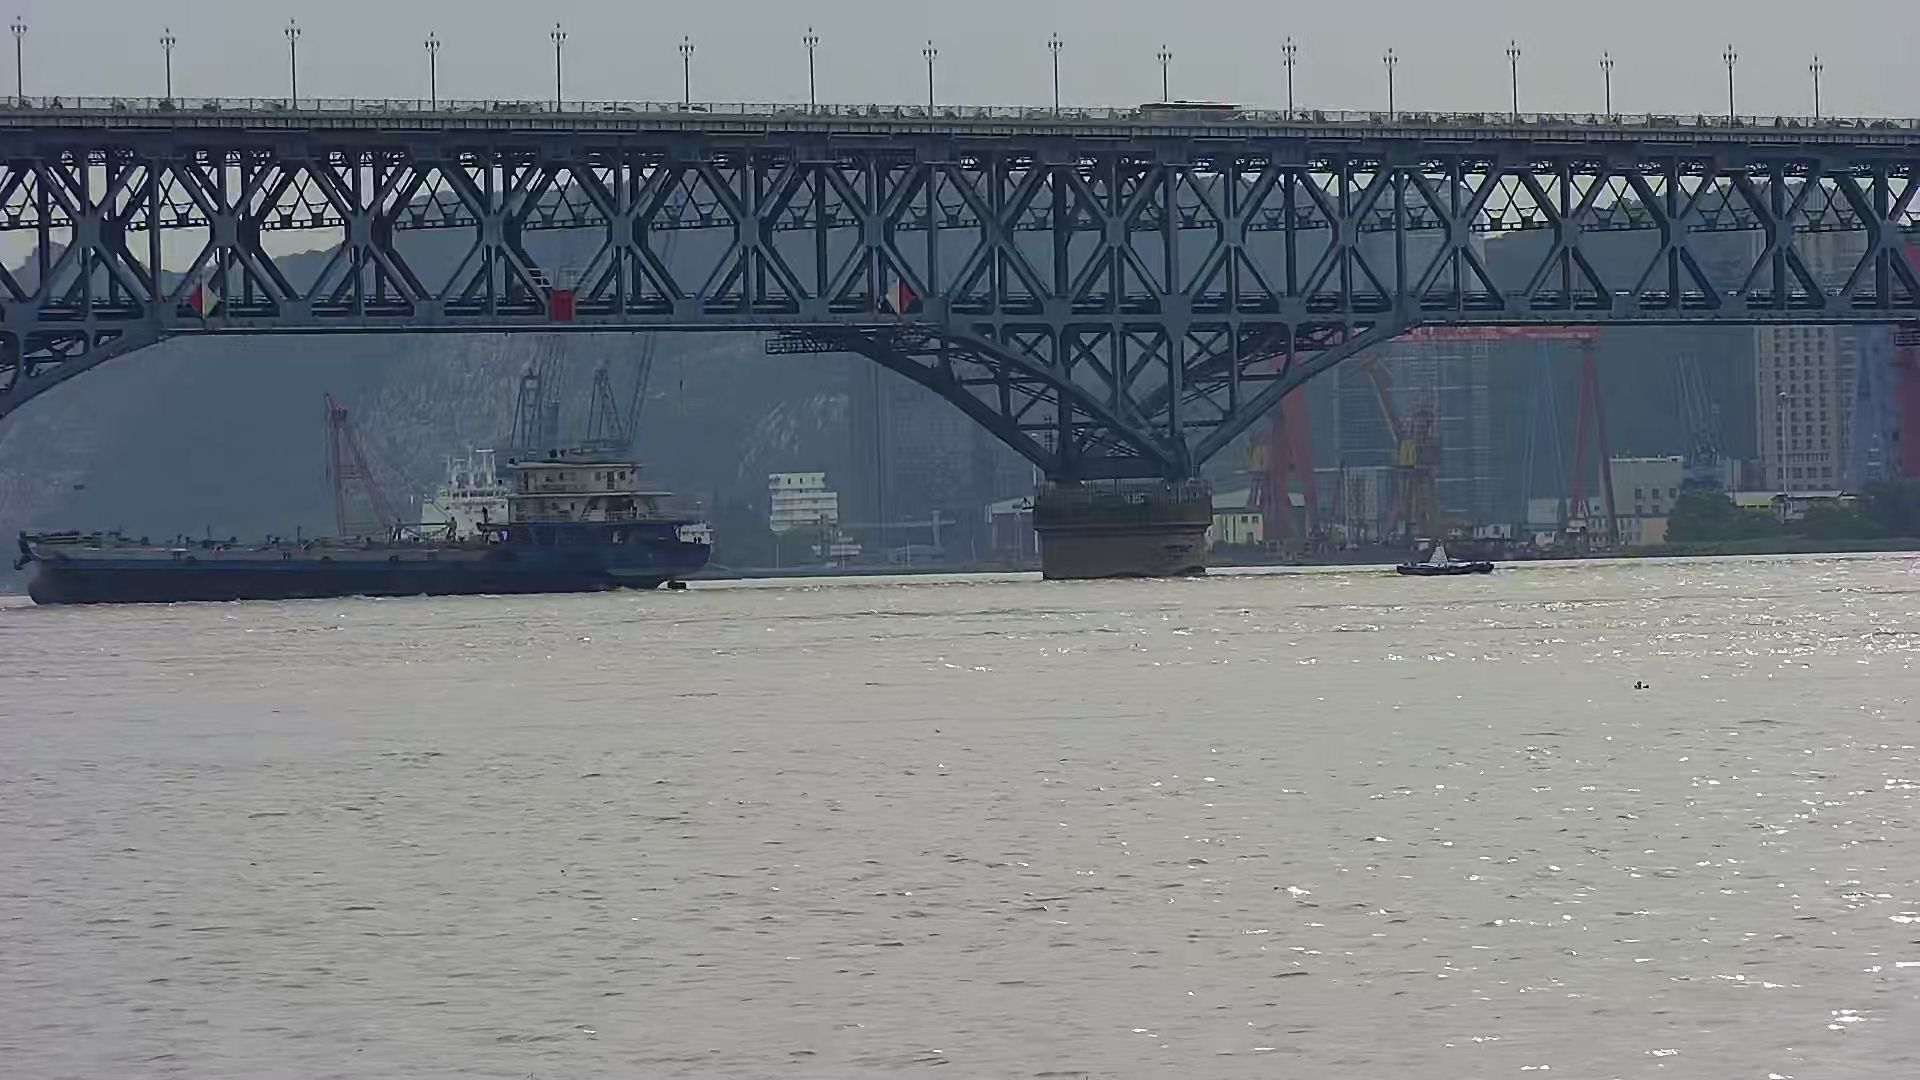boat: (1393, 545, 1490, 576)
bridge: (1, 18, 1920, 578)
harbor: (1230, 322, 1652, 562)
ship: (16, 439, 709, 611)
